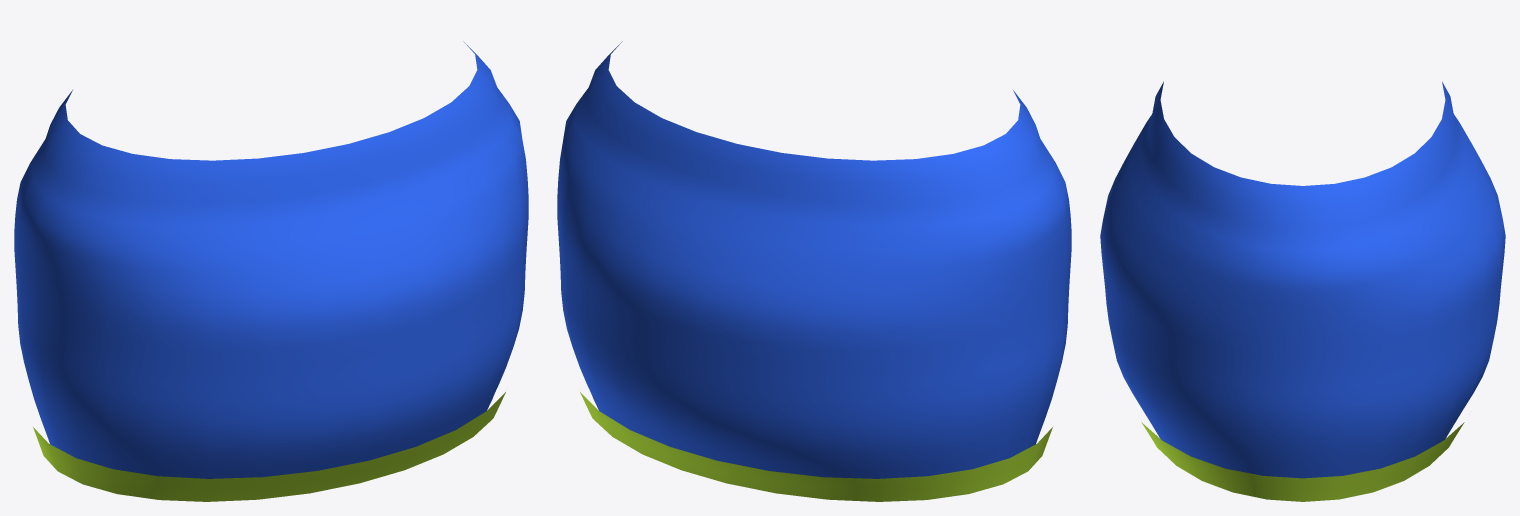
Rendered from top_crop_female.glb.
3 renders of one model, left to right at view 1: azimuth 30°, elevation 25°; view 2: azimuth 150°, elevation 25°; view 3: azimuth 270°, elevation 25°, orthographic. The views are drawn at different scales.
Visible parts, largest first — view 1: shirt, stripe; view 2: shirt, stripe; view 3: shirt, stripe.
Part boxes in pixels (bbox=[...]): shirt: bbox=[14, 41, 528, 478]; stripe: bbox=[33, 392, 505, 501]; shirt: bbox=[557, 41, 1071, 478]; stripe: bbox=[580, 392, 1052, 501]; shirt: bbox=[1100, 81, 1505, 478]; stripe: bbox=[1141, 422, 1464, 501].
Bounding box in the file's own units: 0.2959 × 0.2 × 0.2403.
